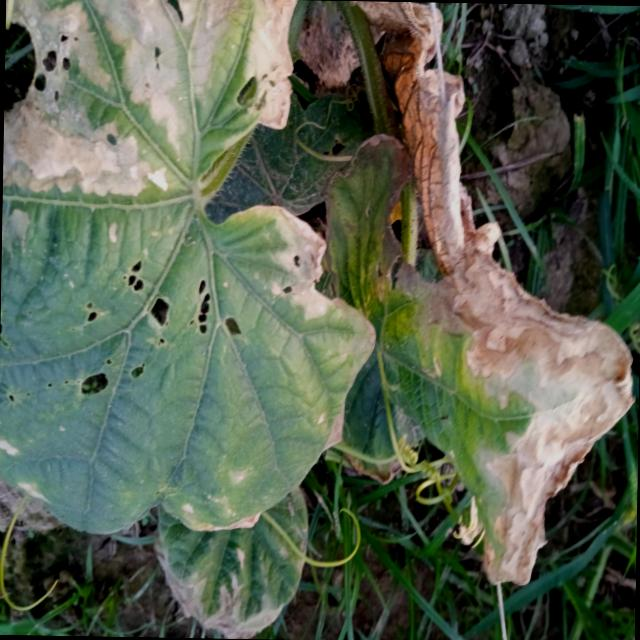cucumber_gummy: (0, 0, 393, 545), (284, 0, 640, 591), (136, 470, 317, 640)
